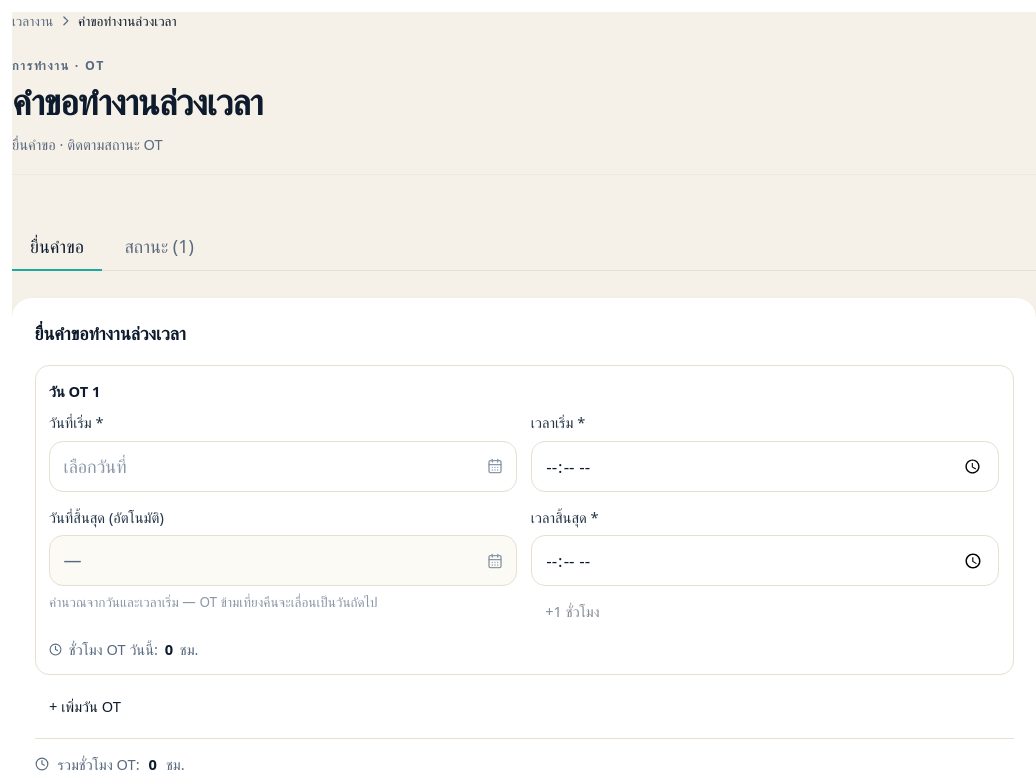
Test: /overtime — STA-256 date/time entry › displays the chosen start date as [day mon-abbrev year] with the BE year (TH)
Type "2026-07-08" into the date field with test id "ot-start-date-0".
click(283, 466); type("2026-07-08")  # box [49,441,517,492]
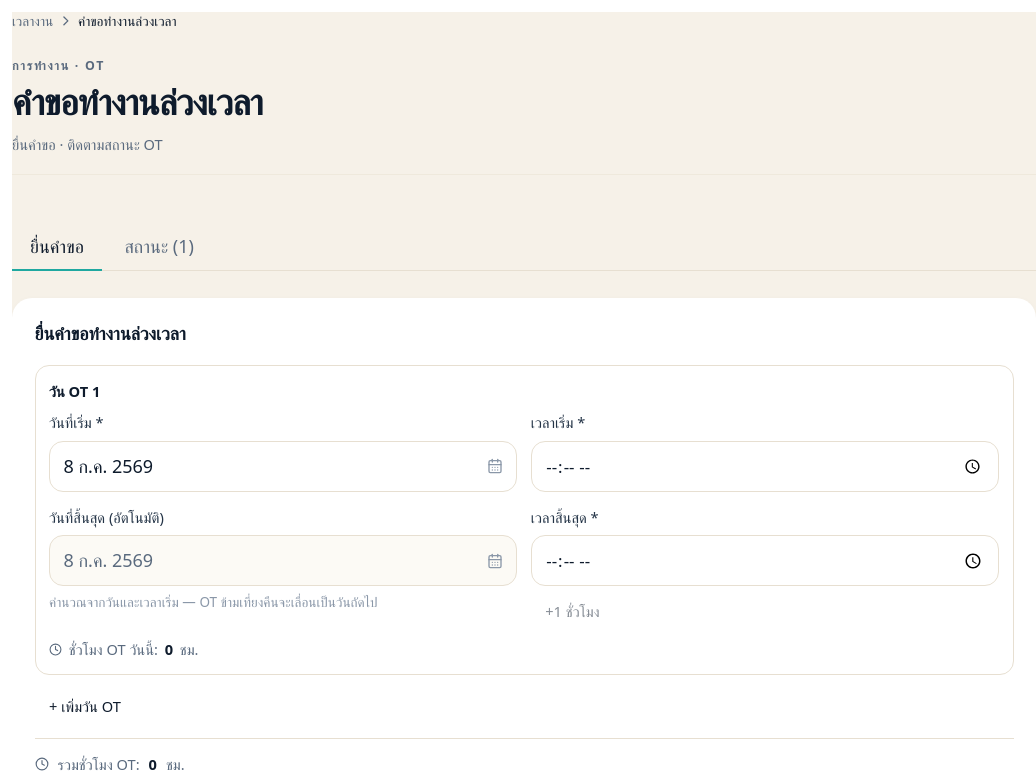
Result: the element with test id "ot-start-date-0-display" reads "8 ก.ค. 2569" at [64,454,153,478]
